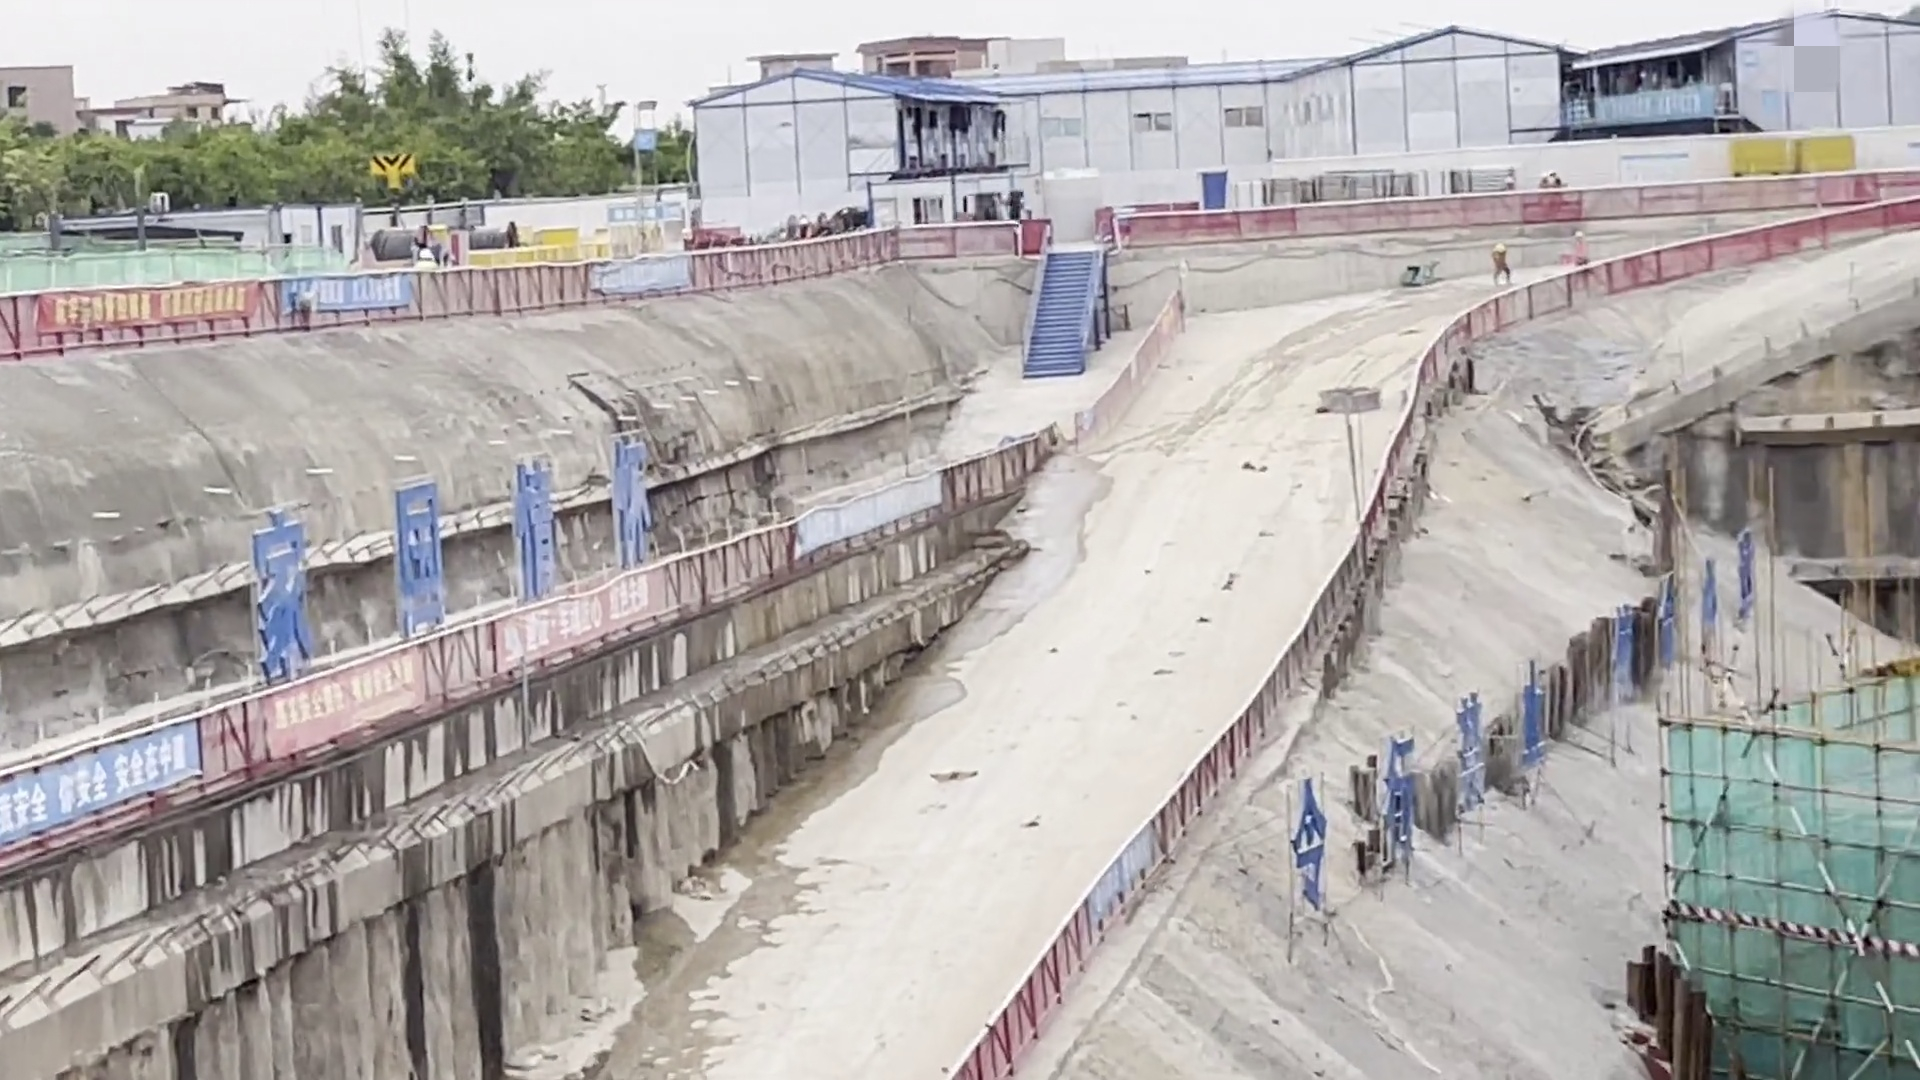fence: (19, 437, 1063, 738), (925, 645, 1304, 1080), (1, 211, 1050, 368), (1117, 160, 1920, 251), (1280, 313, 1459, 695), (1434, 203, 1920, 337)
helmet: (1493, 239, 1510, 255)
hook: (370, 141, 428, 210)
person: (1485, 234, 1521, 293)
slogan: (1, 735, 195, 857), (261, 665, 445, 745), (504, 579, 697, 649), (801, 474, 982, 546), (1085, 843, 1180, 932), (56, 281, 250, 325), (585, 232, 697, 303), (279, 270, 415, 327)
